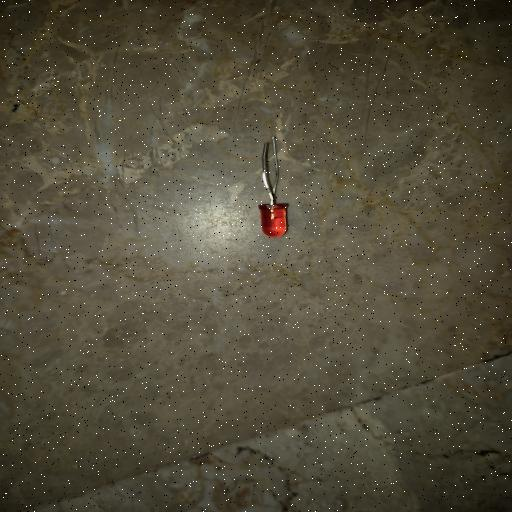led-diode: (258, 137, 288, 238)
